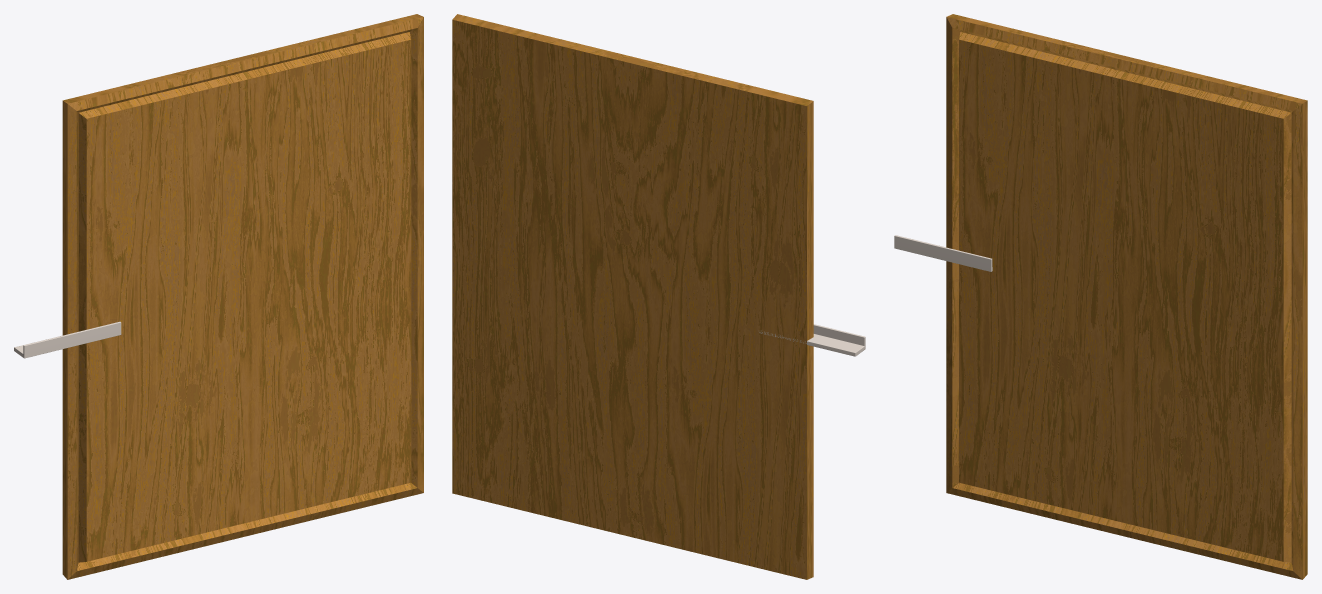
Rendered from Cabinet_f1250a16.obj.
3 renders of one model, left to right at view 1: azimuth 30°, elevation 25°; view 2: azimuth 150°, elevation 25°; view 3: azimuth 330°, elevation 25°, orthographic.
Visible parts, largest first — view 1: Mesh_cb4745f4, handle_3_178mm_(1)_01_0d5884a9; view 2: Mesh_cb4745f4, handle_3_178mm_(1)_01_0d5884a9; view 3: Mesh_cb4745f4, handle_3_178mm_(1)_01_0d5884a9.
Boxes of the visible parts, <box> form: Mesh_cb4745f4: <box>62,14,423,579</box>; handle_3_178mm_(1)_01_0d5884a9: <box>14,321,121,358</box>; Mesh_cb4745f4: <box>452,14,813,579</box>; handle_3_178mm_(1)_01_0d5884a9: <box>759,324,865,356</box>; Mesh_cb4745f4: <box>946,14,1307,579</box>; handle_3_178mm_(1)_01_0d5884a9: <box>894,235,992,271</box>.
Size of the model in its own units: 0.7406 by 0.8341 by 0.0326.
